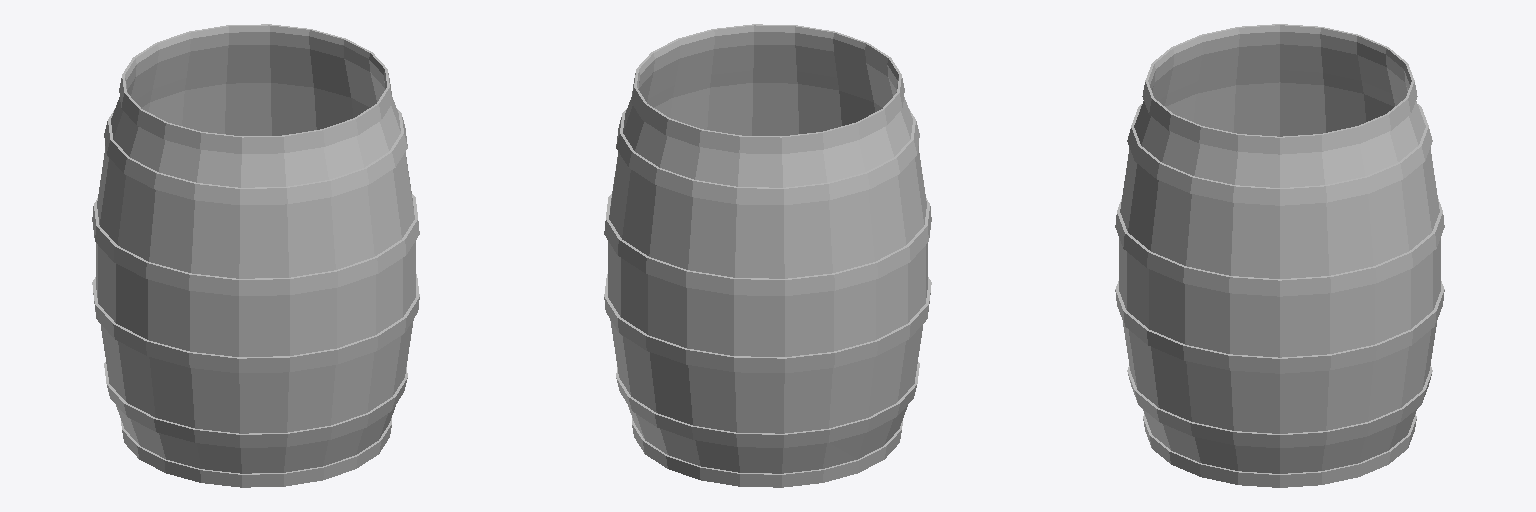
The model's file is Open Barrel.obj.
3 renders of one model, left to right at view 1: azimuth 30°, elevation 25°; view 2: azimuth 150°, elevation 25°; view 3: azimuth 270°, elevation 25°, orthographic.
Visible parts, largest first — view 1: polySurface3 Open_Barrel; view 2: polySurface3 Open_Barrel; view 3: polySurface3 Open_Barrel.
Part boxes in pixels (bbox=[...]): polySurface3 Open_Barrel: bbox=[92, 24, 419, 487]; polySurface3 Open_Barrel: bbox=[604, 24, 931, 487]; polySurface3 Open_Barrel: bbox=[1115, 24, 1444, 487].
Bounding box in the file's own units: 81.1 × 95.12 × 81.1.